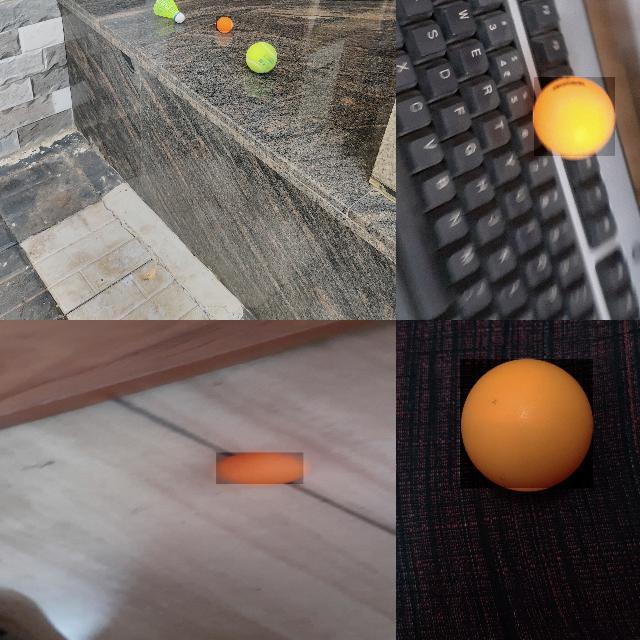ping-pong-ball: (461, 358, 594, 489), (534, 77, 616, 157), (216, 452, 305, 484), (216, 16, 232, 32)
